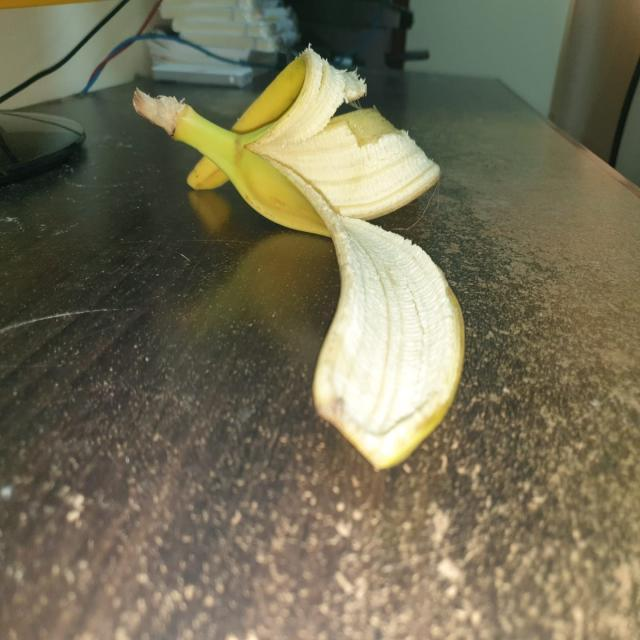banana-peel: (131, 44, 466, 471)
